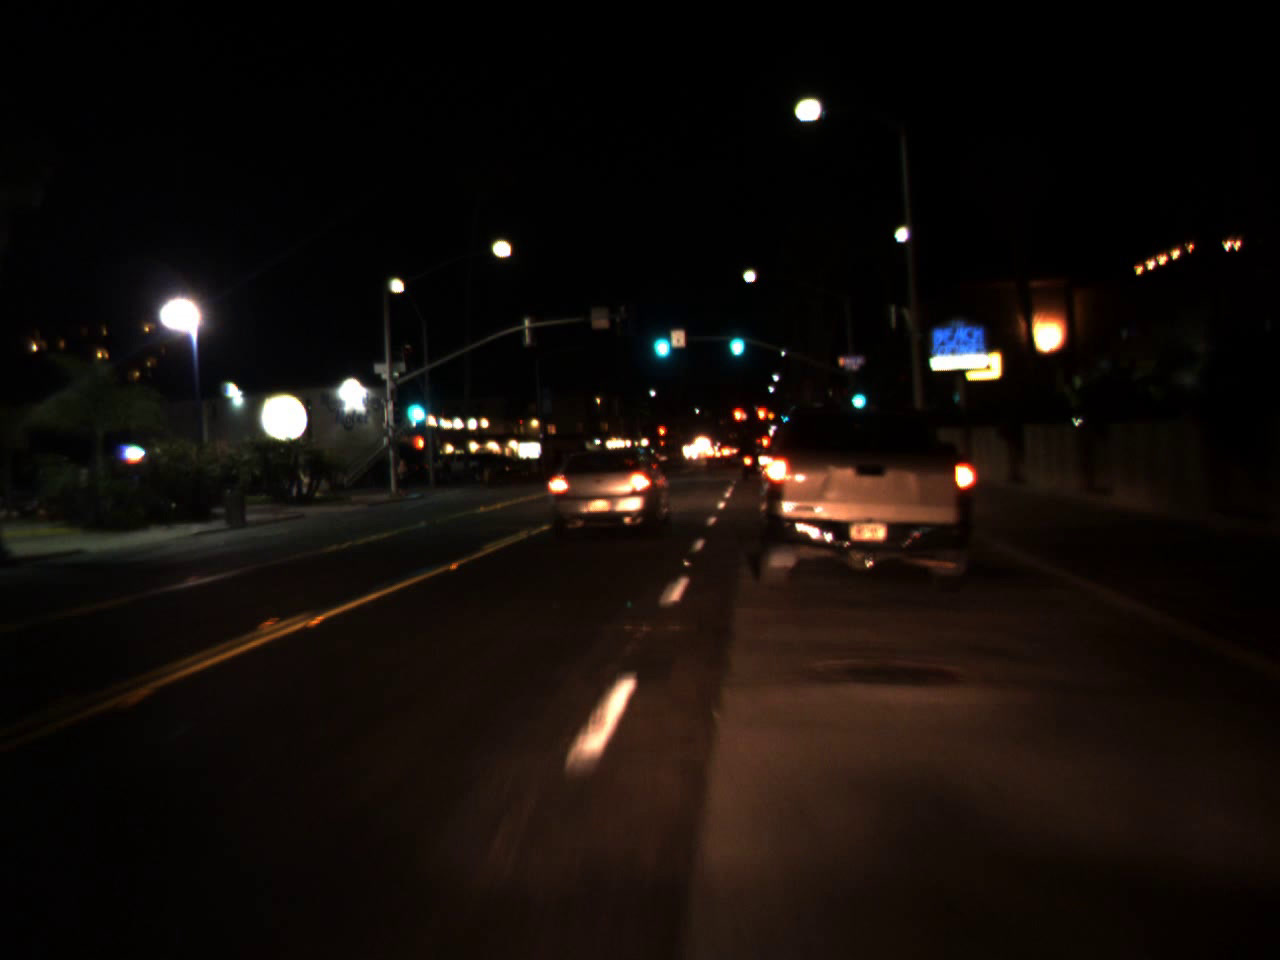go: (400, 382, 428, 427), (648, 316, 673, 364), (724, 315, 747, 363), (845, 375, 868, 414)
